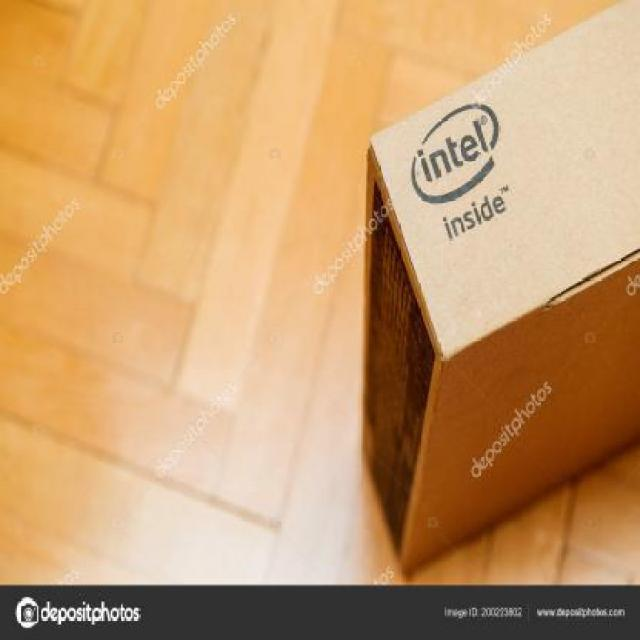box: (367, 0, 640, 582)
